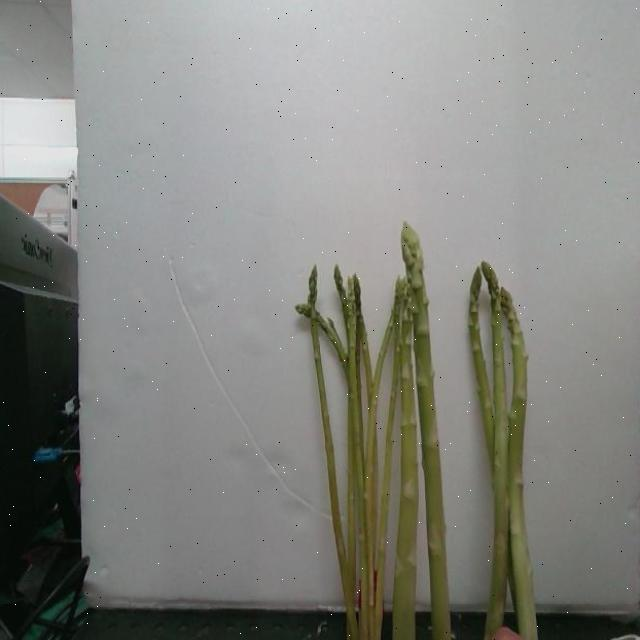aspargus: (400, 223, 449, 640), (499, 293, 539, 640)
